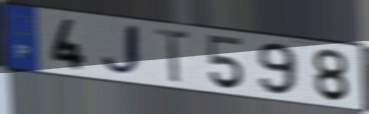4: (49, 17, 88, 72)
5: (205, 33, 245, 92)
8: (311, 47, 350, 104)
9: (256, 41, 301, 98)
J: (98, 22, 145, 80)
T: (153, 26, 193, 85)
